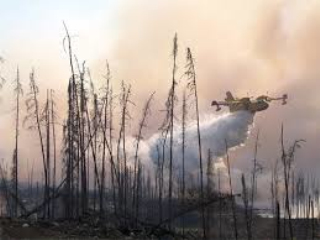smoke: (136, 123, 305, 208), (163, 7, 316, 98)
